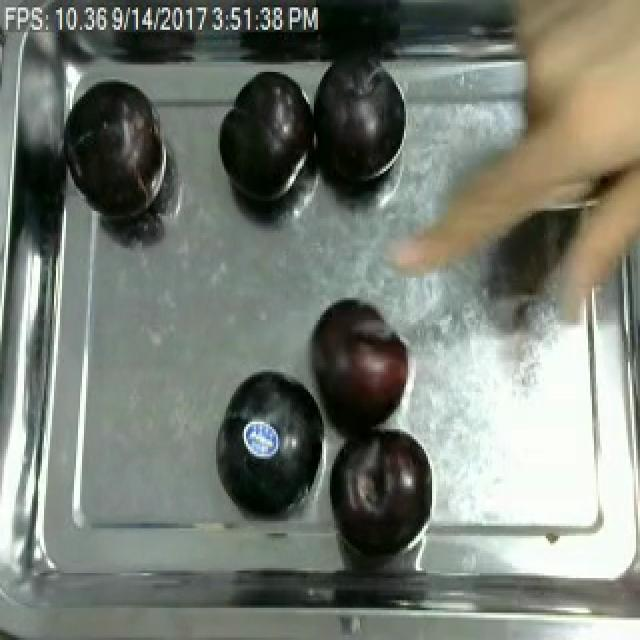Fruit: (208, 360, 330, 521), (62, 70, 176, 233), (302, 293, 418, 439), (208, 64, 318, 214), (306, 52, 412, 199), (320, 422, 436, 556)
